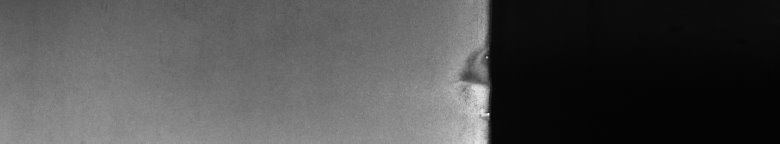hb: (450, 44, 480, 102)
